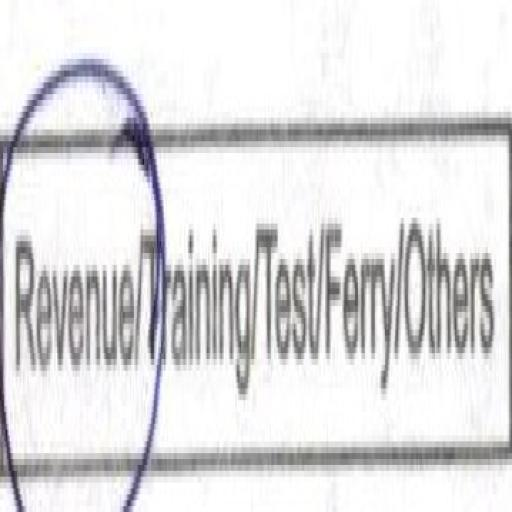check: (0, 55, 146, 512)
